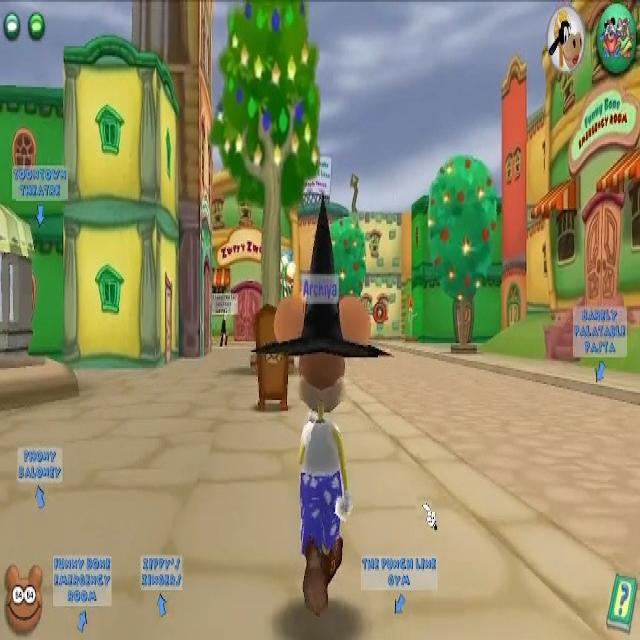telemarketer: (210, 292, 237, 348)
